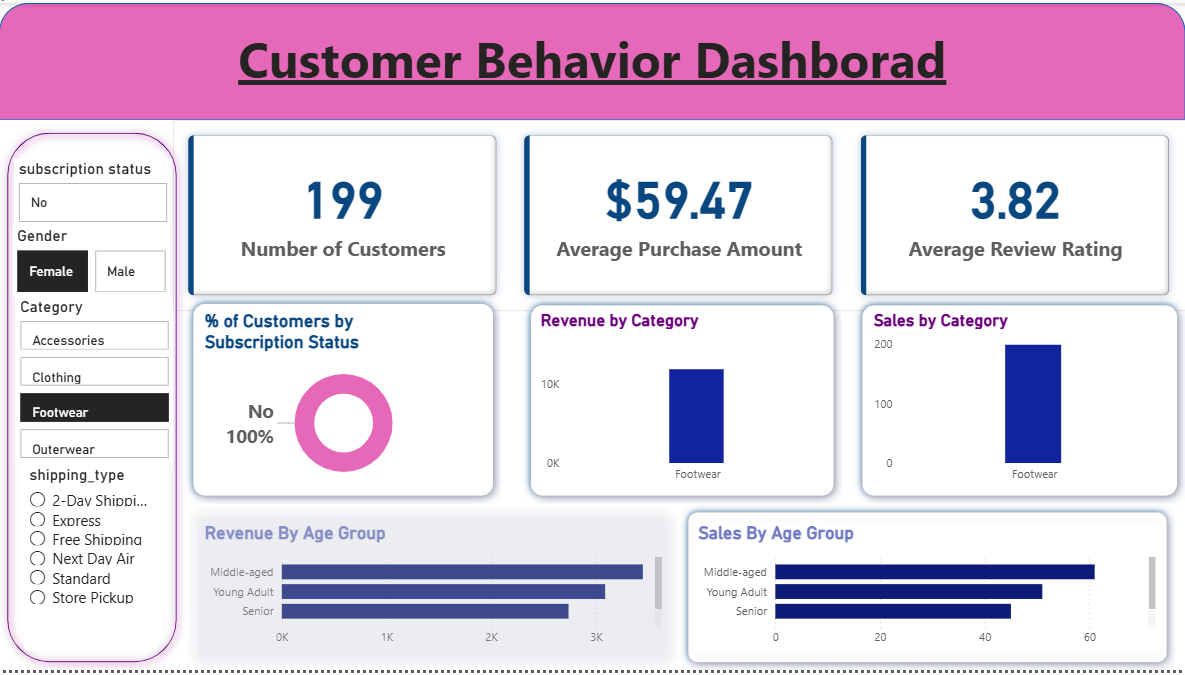

Layout of this report page (visuals, bound fields, positions):
{"tool":"powerbi","page":{"name":"Page 1","canvas":[1280,720],"ordinal":0},"visuals":[{"type":"cardVisual","fields":{"Data":["public customer.Number of Customers","public customer.Average Purchase Amount","public customer.Average Review Rating"]},"box":[187.8,126.3,1093,205.6],"z":0},{"type":"shape","box":[0,0,1280.8,126.3],"z":1000},{"type":"textbox","box":[0,17.8,1280.8,108.5],"z":2000},{"type":"shape","box":[200.8,315.7,341.7,225.1],"z":3000},{"type":"donutChart","title":"% of Customers by Subscription Status","fields":{"Category":["public customer.subscription_status"],"Y":["CountNonNull(public customer.customer_id)"]},"box":[217,331.9,309.3,194.3],"z":4000},{"type":"shape","box":[565.1,317.4,344.9,223.5],"z":5000},{"type":"shape","box":[923,317.4,357.8,223.5],"z":6000},{"type":"clusteredColumnChart","title":"Revenue by Category","fields":{"Y":["Sum(public customer.purchase_amount)"],"Category":["public customer.category"]},"box":[579.7,331.9,319,194.3],"z":7000},{"type":"clusteredColumnChart","title":"Sales by Category","fields":{"Category":["public customer.category"],"Y":["CountNonNull(public customer.customer_id)"]},"box":[939.2,331.9,327.1,194.3],"z":8000},{"type":"shape","box":[0,131.2,200.8,589.4],"z":9000},{"type":"advancedSlicerVisual","title":"subscription status","fields":{"Values":["public customer.subscription_status"]},"box":[16.2,168.4,170,72.9],"z":10000},{"type":"advancedSlicerVisual","title":"Gender","fields":{"Values":["public customer.gender"]},"box":[14.6,241.3,170,76.1],"z":11000},{"type":"advancedSlicerVisual","title":"Category","fields":{"Values":["public customer.category"]},"box":[17.8,317.4,170,181.4],"z":12000},{"type":"listSlicer","fields":{"Values":["public customer.shipping_type"]},"box":[27.5,498.7,142.5,200.8],"z":13000},{"type":"clusteredBarChart","title":"Revenue By Age Group","fields":{"Y":["Sum(public customer.purchase_amount)"],"Category":["public customer.age_group"]},"box":[217,560.3,503.6,142.5],"z":13001},{"type":"shape","box":[735.1,540.8,534.3,179.7],"z":13002},{"type":"shape","box":[200.8,540.8,534.3,179.7],"z":13003},{"type":"clusteredBarChart","title":"Sales By Age Group","fields":{"Y":["CountNonNull(public customer.customer_id)"],"Category":["public customer.age_group"]},"box":[749.7,560.3,503.6,142.5],"z":13004}]}

Visuals, with their boxes in screenshot pixels (x1, y1, x2, y2), scaled from the page's 1280x720 canvas onto the 1185x675 screenshot:
cardVisual - public customer.Number of Customers x public customer.Average Purchase Amount: x1=174 y1=118 x2=1184 y2=311
shape: x1=0 y1=0 x2=1184 y2=118
textbox: x1=0 y1=17 x2=1184 y2=118
shape: x1=186 y1=296 x2=502 y2=507
"% of Customers by Subscription Status" donutChart: x1=201 y1=311 x2=487 y2=493
shape: x1=523 y1=298 x2=842 y2=507
shape: x1=854 y1=298 x2=1184 y2=507
"Revenue by Category" clusteredColumnChart: x1=537 y1=311 x2=832 y2=493
"Sales by Category" clusteredColumnChart: x1=869 y1=311 x2=1172 y2=493
shape: x1=0 y1=123 x2=186 y2=674
"subscription status" advancedSlicerVisual: x1=15 y1=158 x2=172 y2=226
"Gender" advancedSlicerVisual: x1=14 y1=226 x2=171 y2=298
"Category" advancedSlicerVisual: x1=16 y1=298 x2=174 y2=468
listSlicer - public customer.shipping_type: x1=25 y1=468 x2=157 y2=656
"Revenue By Age Group" clusteredBarChart: x1=201 y1=525 x2=667 y2=659
shape: x1=681 y1=507 x2=1175 y2=674
shape: x1=186 y1=507 x2=681 y2=674
"Sales By Age Group" clusteredBarChart: x1=694 y1=525 x2=1160 y2=659
